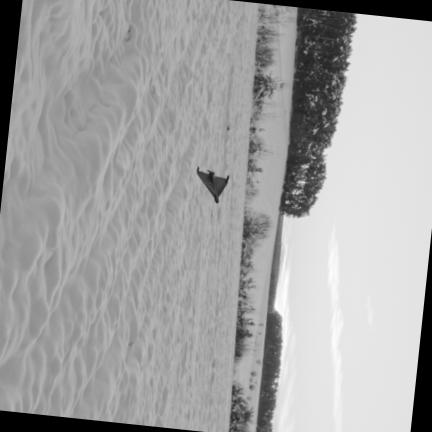Shahed: (197, 168, 228, 203)
